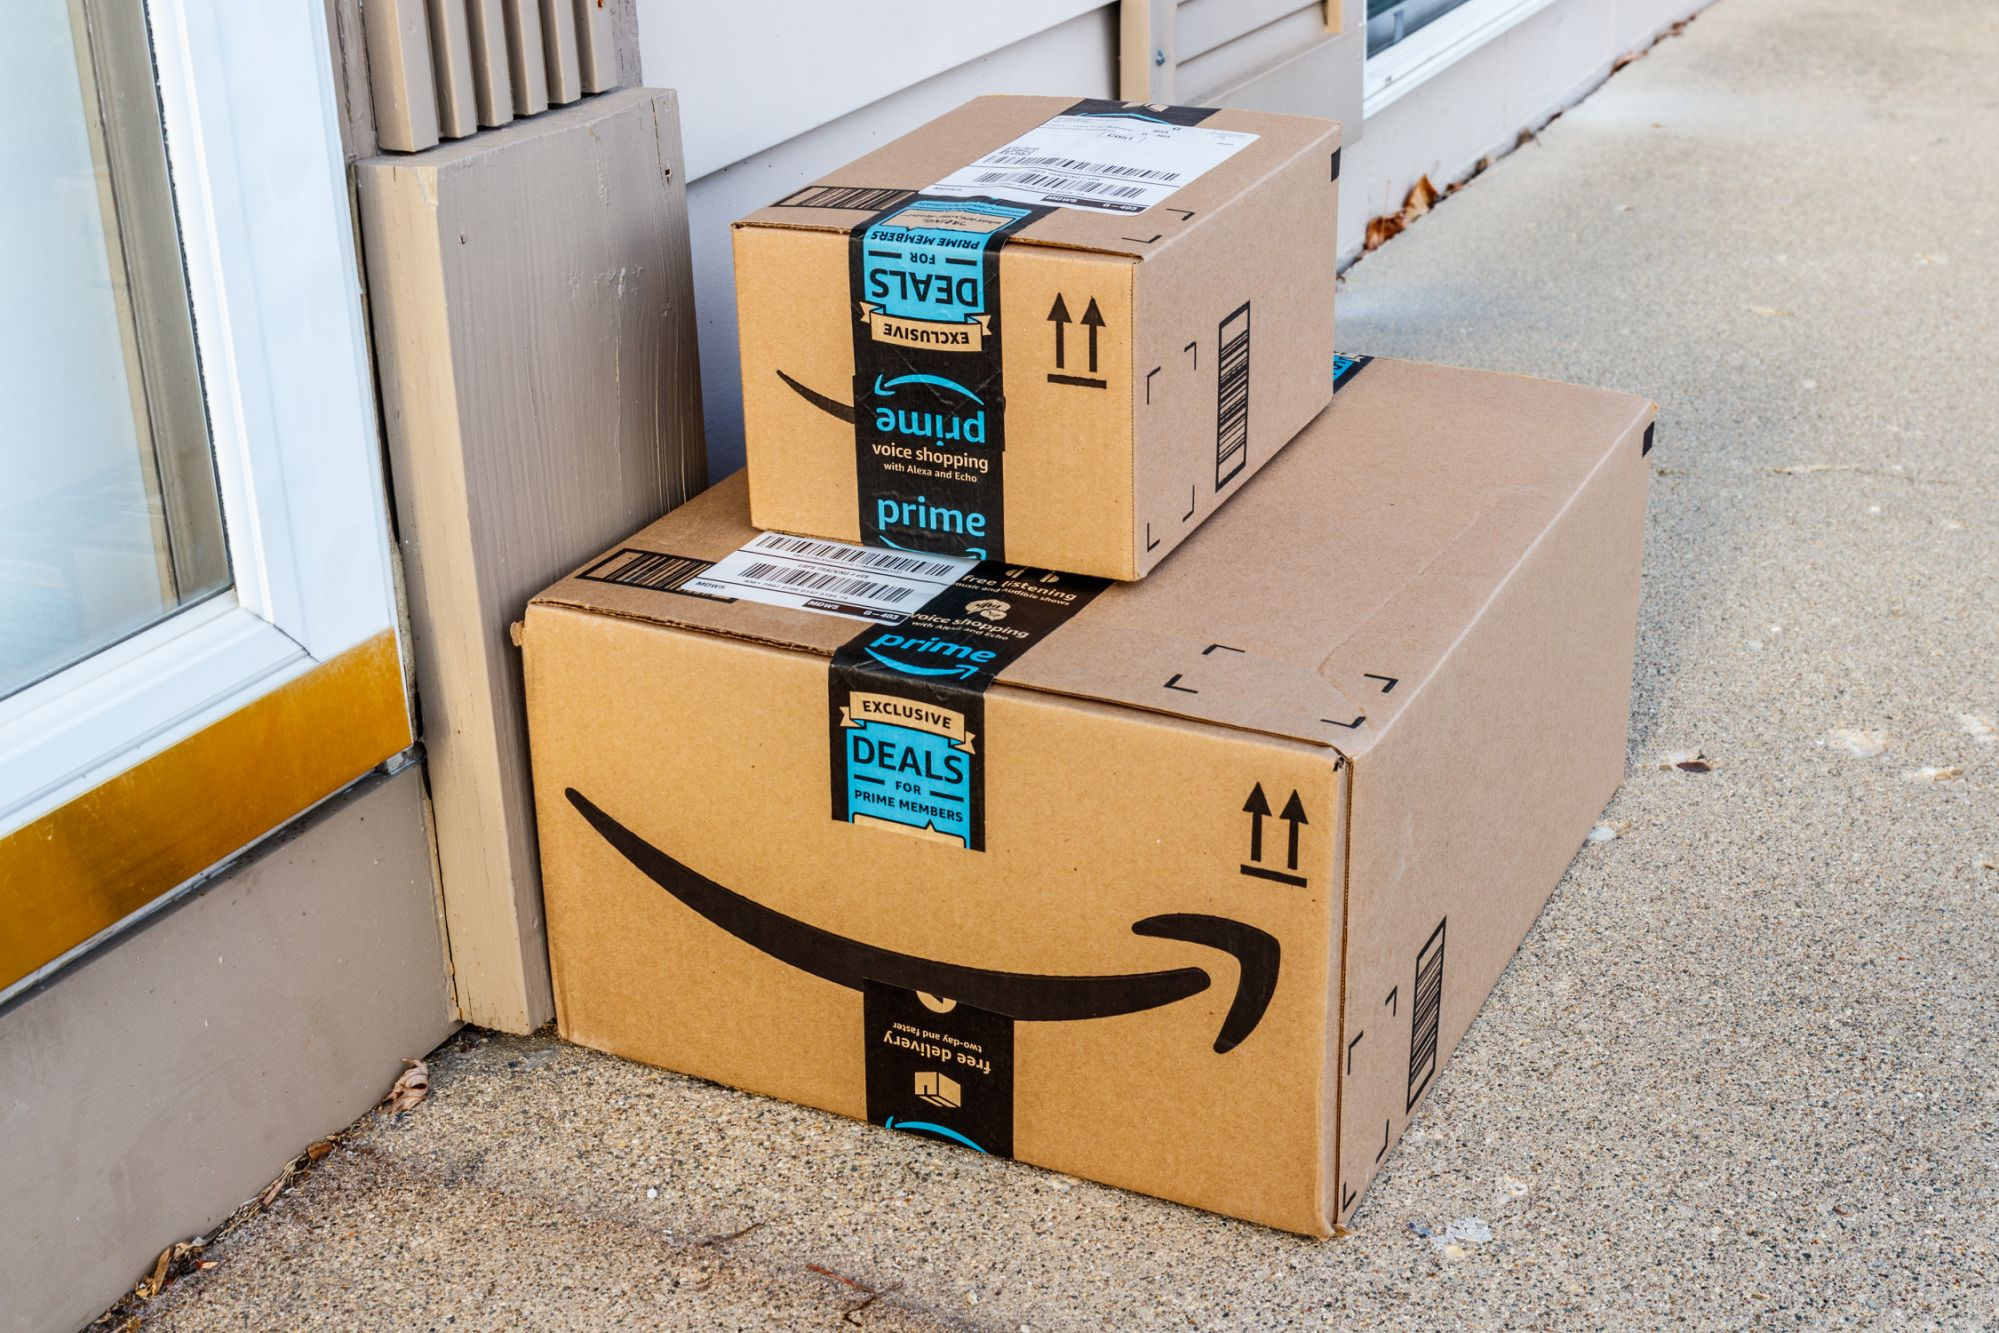package: (515, 353, 1645, 1244), (730, 82, 1345, 588)
